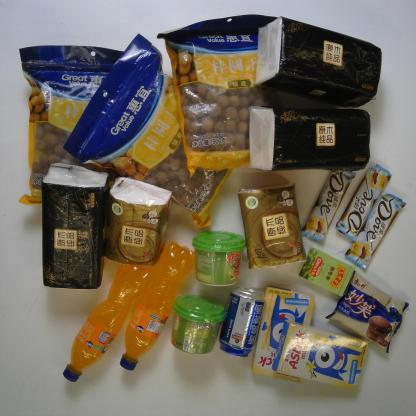Alcohol: (218, 286, 266, 359)
Candy: (296, 246, 357, 297)
Chocolate: (342, 192, 407, 272), (299, 165, 357, 244), (334, 164, 391, 240)
Dessert: (325, 270, 410, 355), (250, 283, 317, 385), (272, 320, 369, 390)
Dried Food: (62, 31, 250, 232), (16, 44, 153, 214), (156, 11, 288, 178)
Drink: (60, 260, 151, 384), (120, 242, 194, 372)
Instant Drink: (170, 295, 225, 356), (192, 230, 247, 289)
Tissue: (253, 15, 383, 104), (40, 158, 110, 294), (246, 102, 371, 173), (103, 174, 172, 267), (236, 183, 306, 269)
